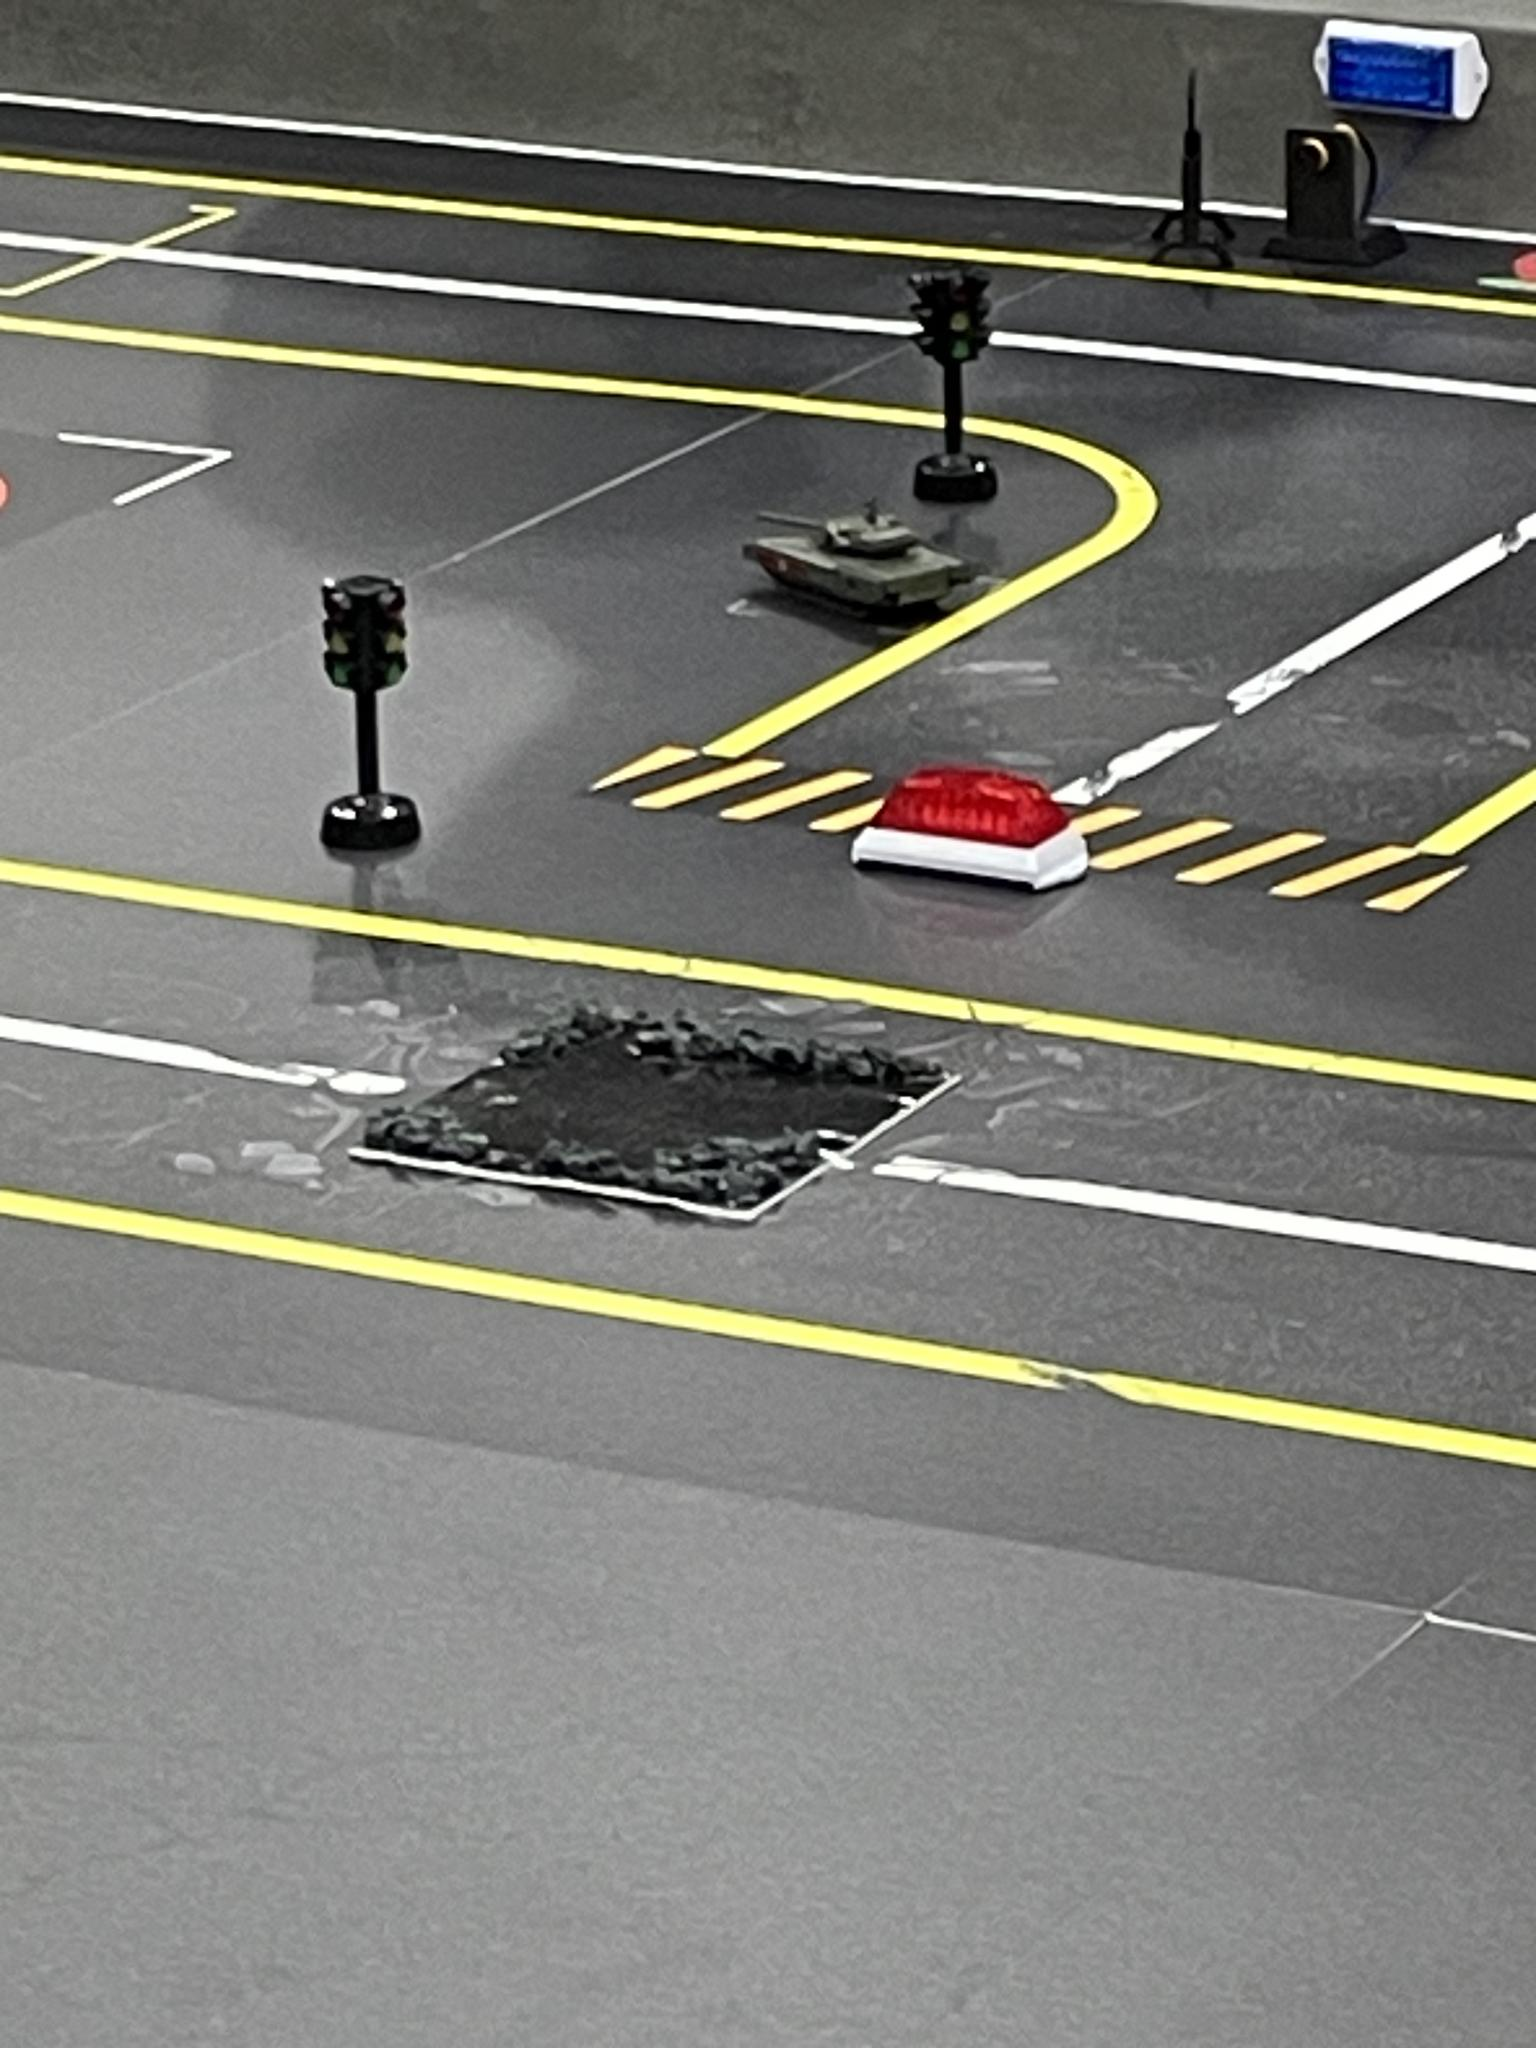Tank: (729, 493, 973, 645)
